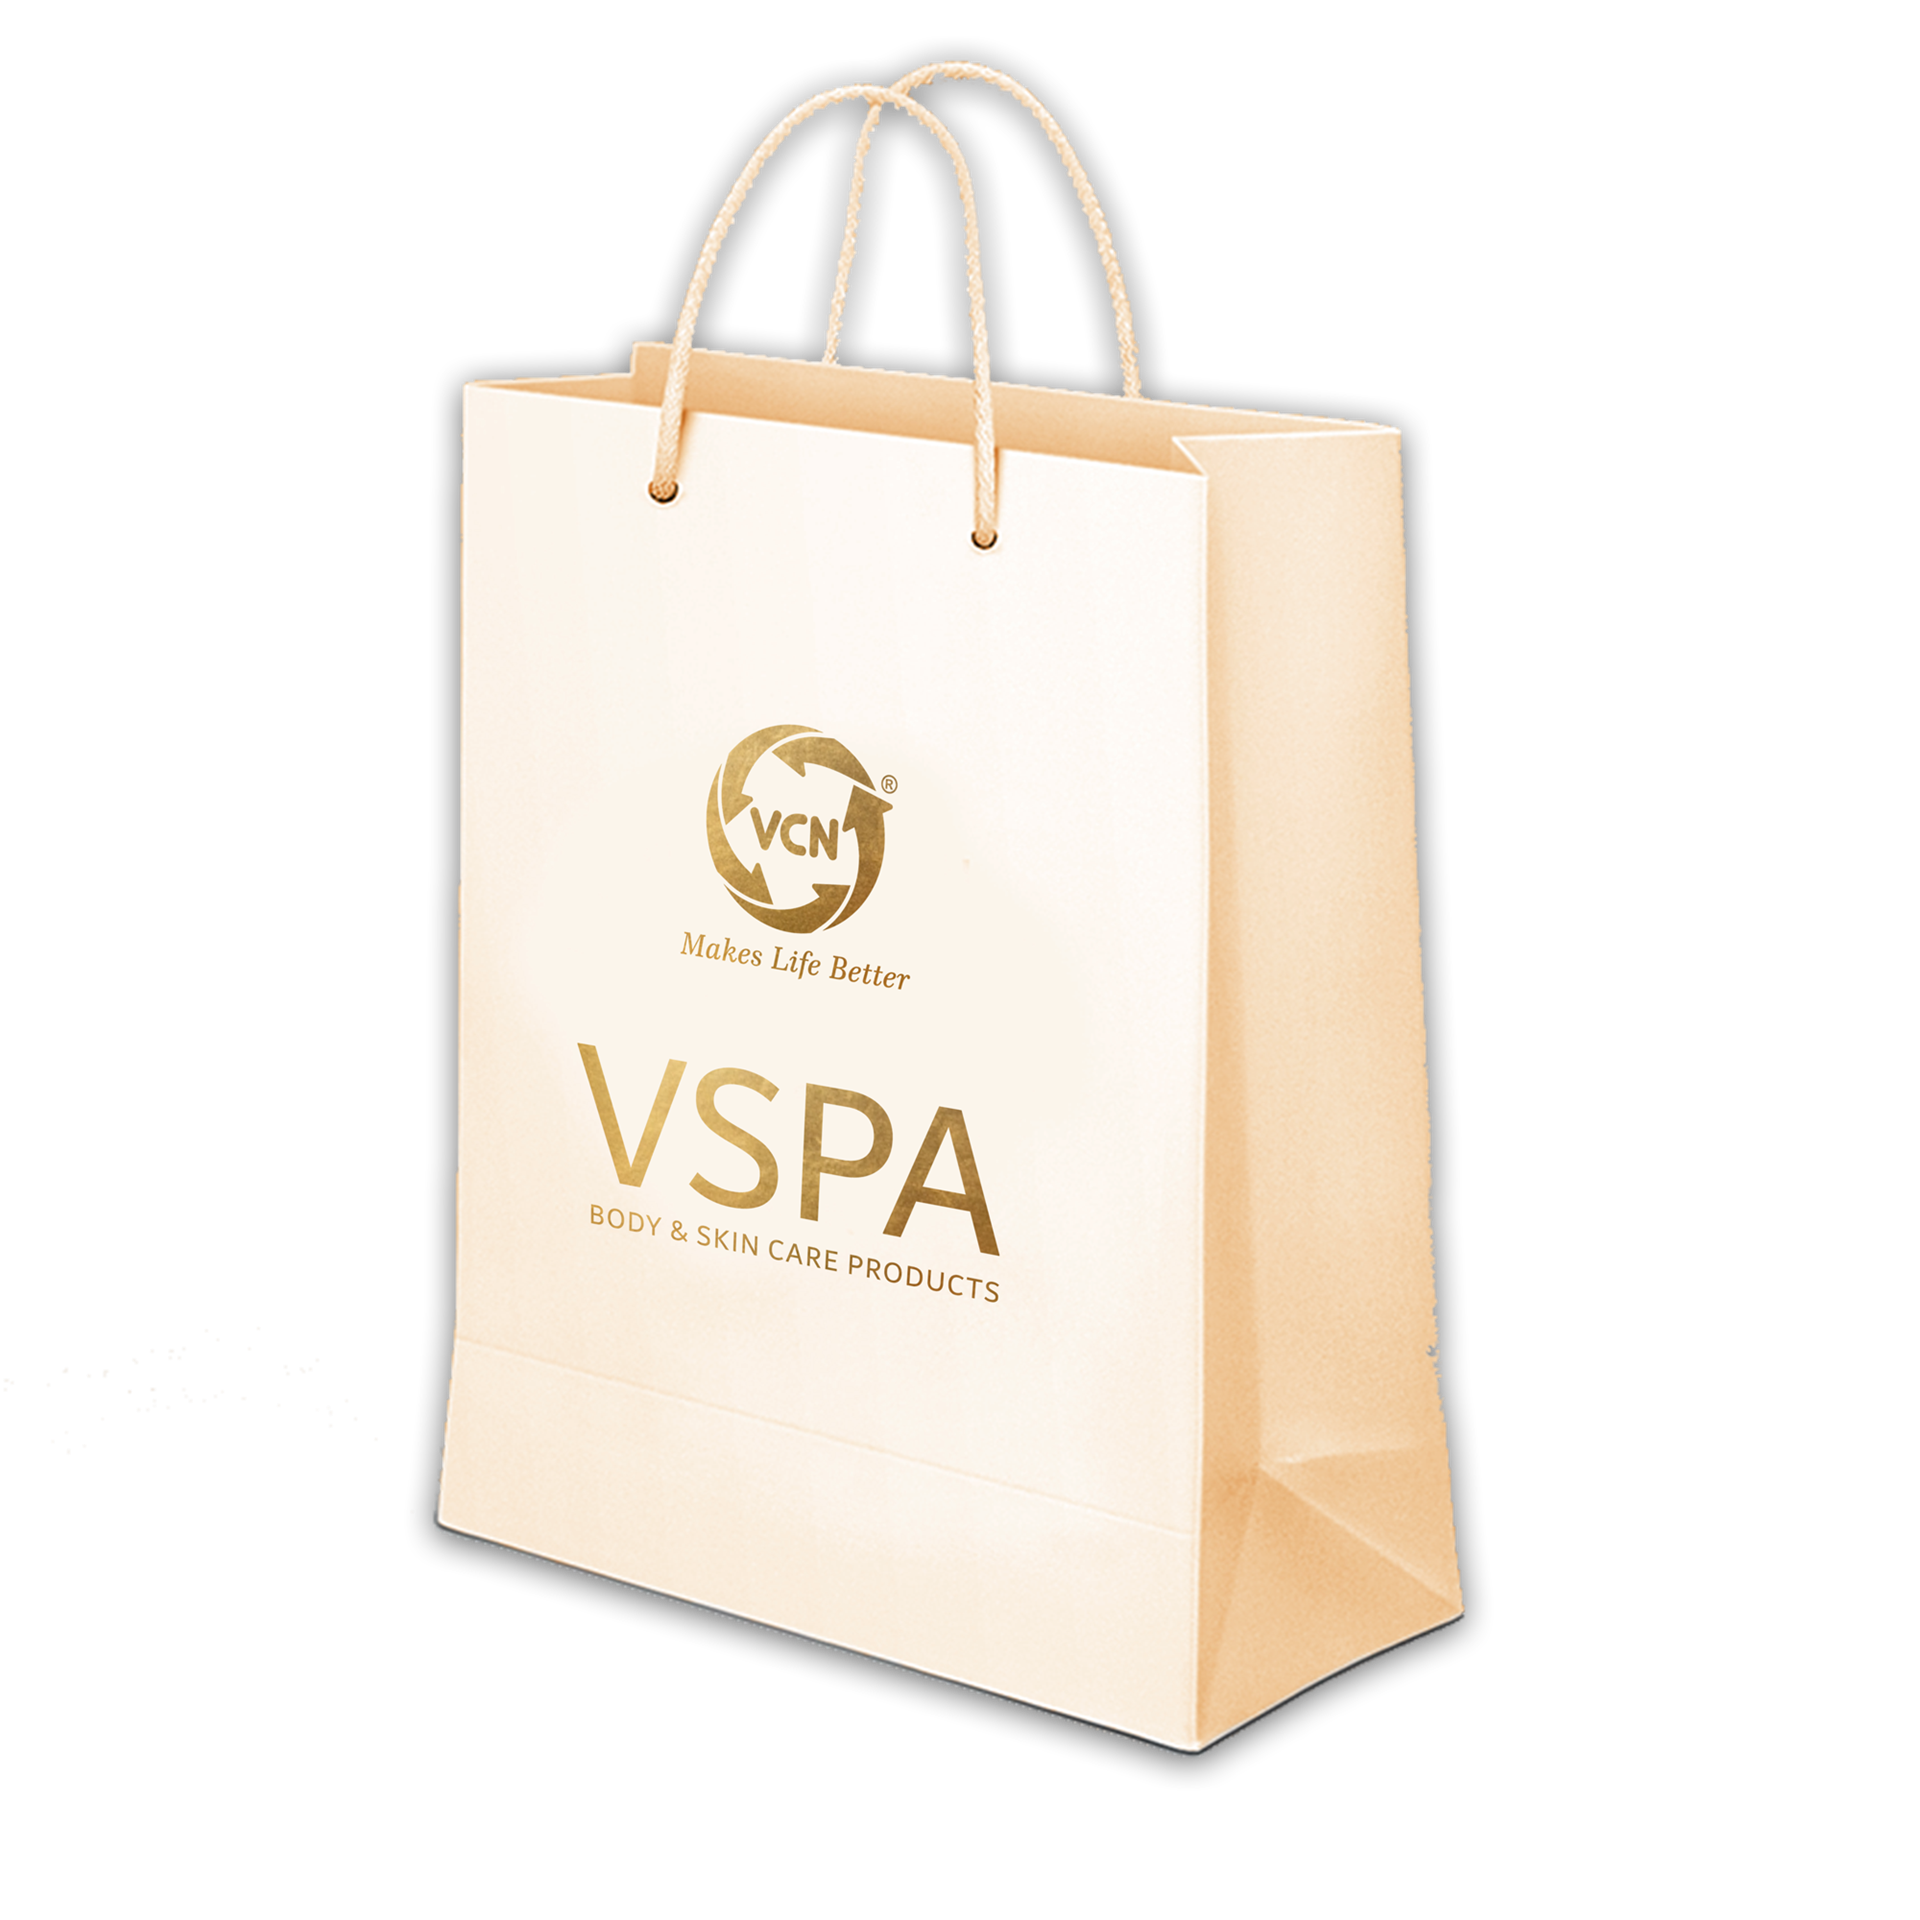carrybag: (373, 171, 1547, 1779)
